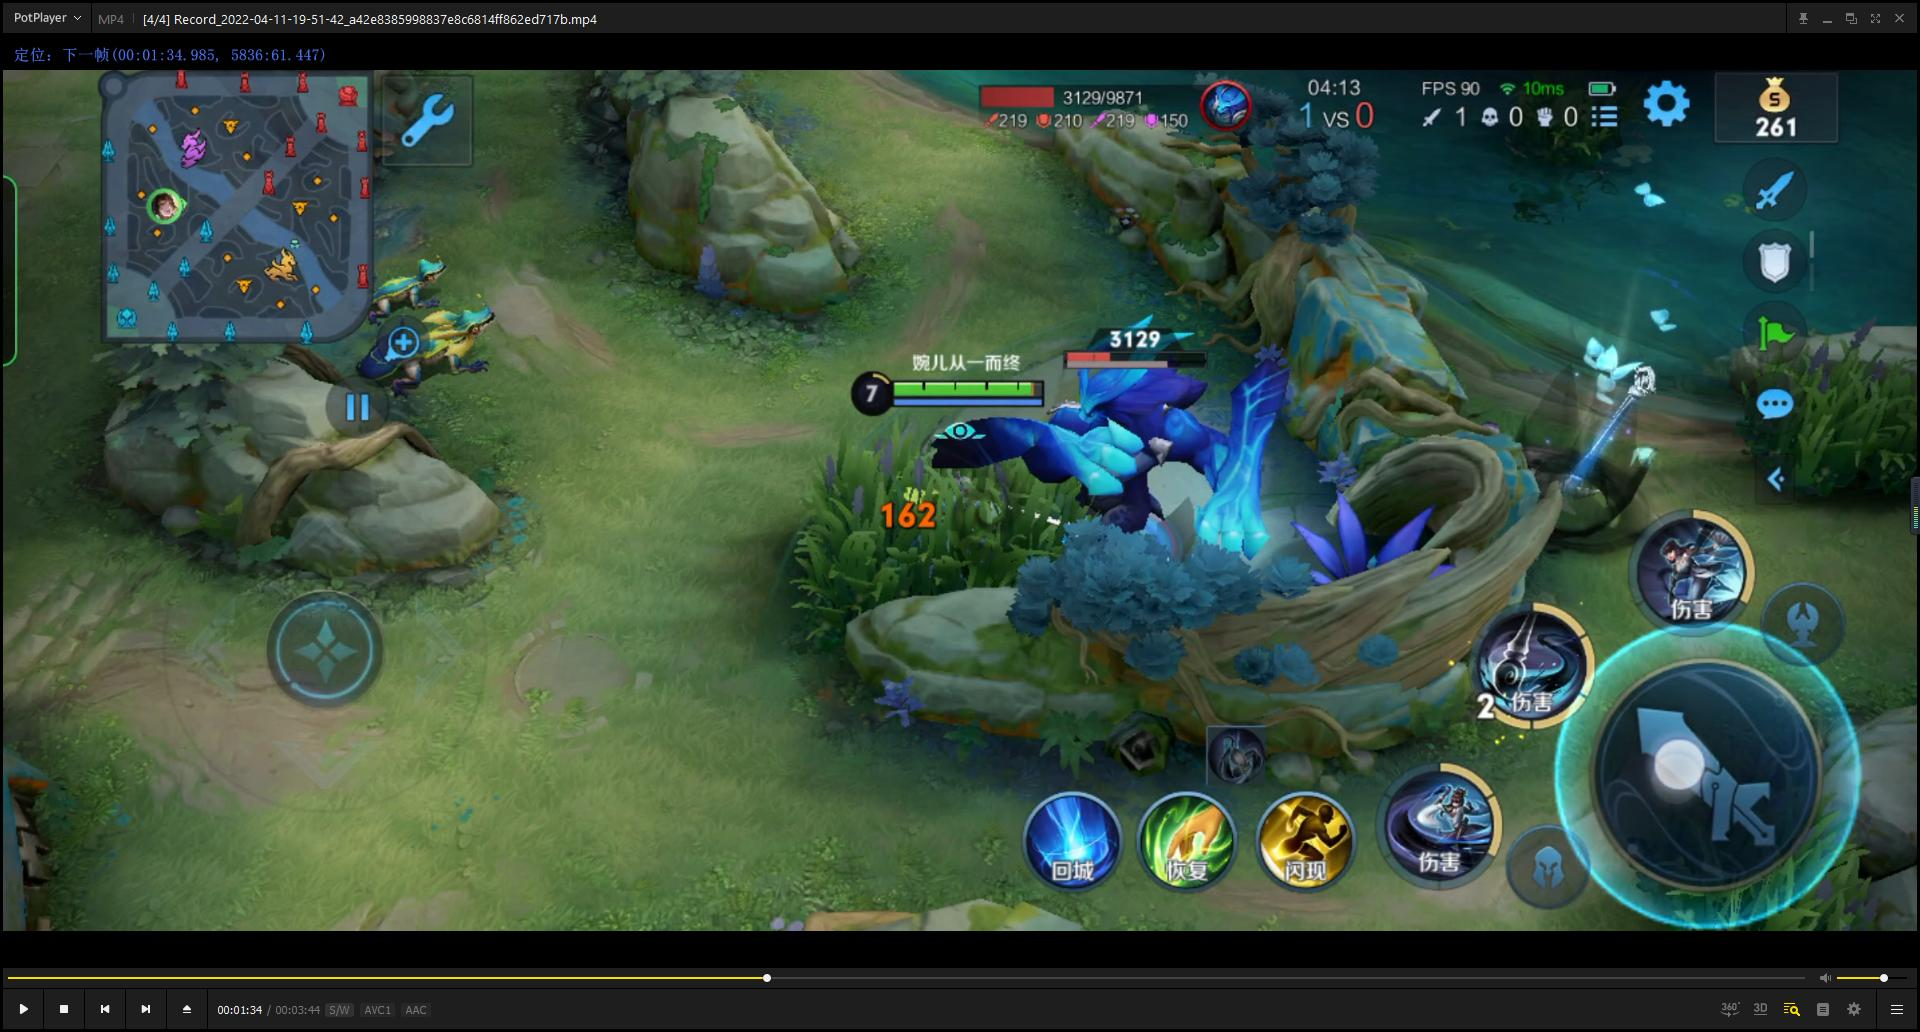Buff: (877, 281, 1280, 613)
Lizard: (385, 290, 499, 397), (368, 252, 460, 325)
